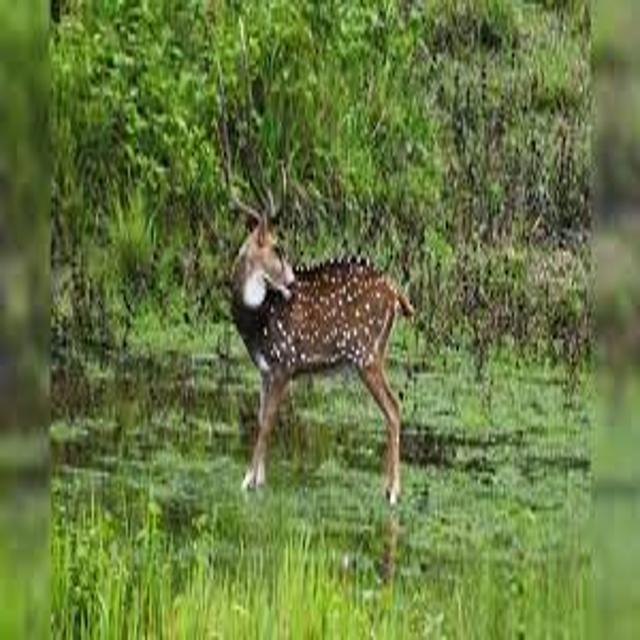Deer: (208, 147, 445, 544)
